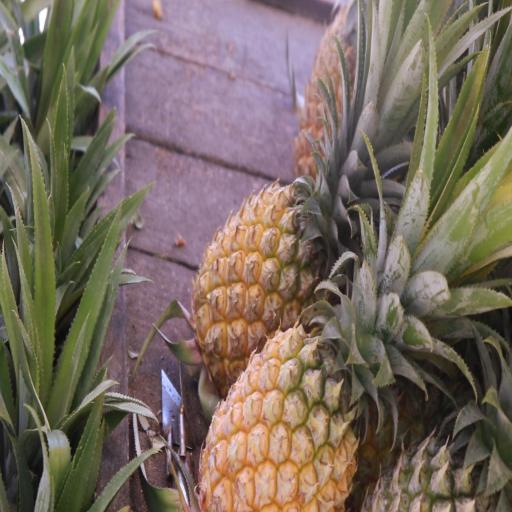Pineapple - v8 v1: (191, 276, 360, 510), (189, 180, 349, 402)
